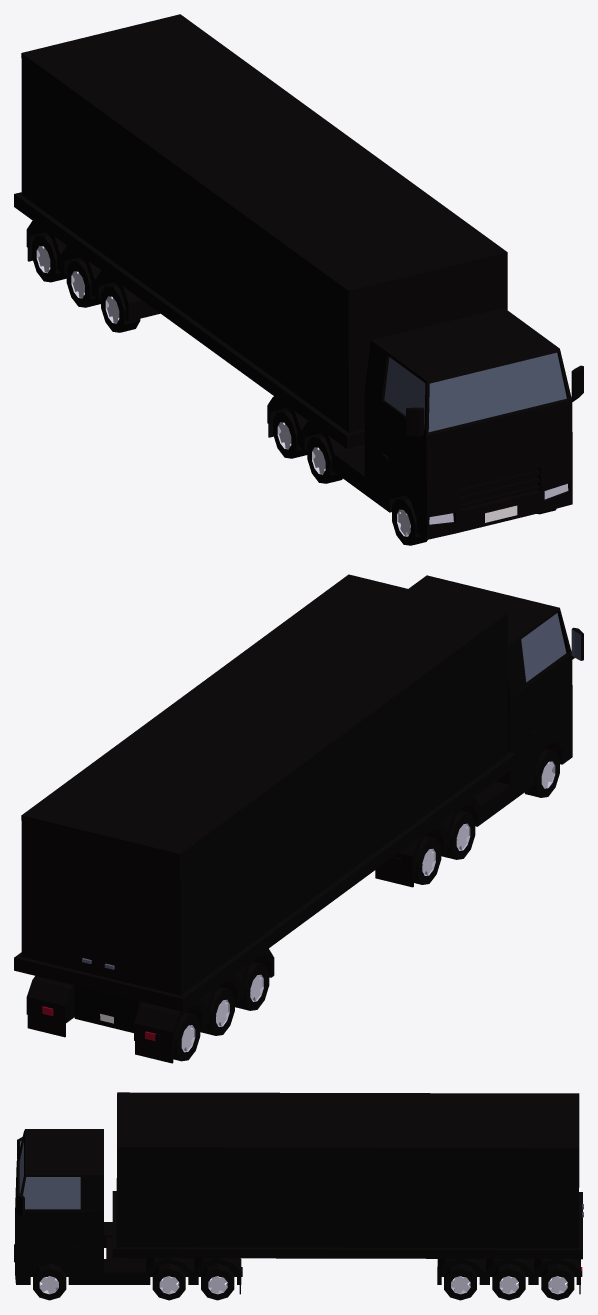
Rendered from truck.glb.
3 renders of one model, top to bottom at view 1: azimuth 30°, elevation 25°; view 2: azimuth 150°, elevation 25°; view 3: azimuth 270°, elevation 25°, orthographic. The views are drawn at different scales.
Parts seen in each view (by area): view 1: Truck with trailer, Truck with trailer wheel rear right 3, Truck with trailer wheel rear right 4, Truck with trailer wheel rear right 5, Truck with trailer wheel front right, Truck with trailer wheel rear right 2, Truck with trailer wheel rear right; view 2: Truck with trailer, Truck with trailer wheel rear right, Truck with trailer wheel rear right 3, Truck with trailer wheel rear right 4, Truck with trailer wheel front right, Truck with trailer wheel rear right 5, Truck with trailer wheel rear right 2; view 3: Truck with trailer, Truck with trailer wheel rear left 2, Truck with trailer wheel front left, Truck with trailer wheel rear left 4, Truck with trailer wheel rear left, Truck with trailer wheel rear left 5, Truck with trailer wheel rear left 3.
Part boxes in pixels (x1=…): Truck with trailer: x1=14, y1=14, x2=583, y2=539; Truck with trailer wheel rear right 3: x1=101, y1=283, x2=140, y2=332; Truck with trailer wheel rear right 4: x1=66, y1=258, x2=100, y2=307; Truck with trailer wheel rear right 5: x1=32, y1=233, x2=66, y2=282; Truck with trailer wheel front right: x1=392, y1=496, x2=427, y2=545; Truck with trailer wheel rear right 2: x1=273, y1=409, x2=307, y2=458; Truck with trailer wheel rear right: x1=307, y1=434, x2=342, y2=483; Truck with trailer: x1=14, y1=574, x2=583, y2=1063; Truck with trailer wheel rear right: x1=441, y1=810, x2=475, y2=859; Truck with trailer wheel rear right 3: x1=235, y1=961, x2=269, y2=1010; Truck with trailer wheel rear right 4: x1=200, y1=986, x2=234, y2=1035; Truck with trailer wheel front right: x1=524, y1=748, x2=559, y2=797; Truck with trailer wheel rear right 5: x1=173, y1=1012, x2=200, y2=1061; Truck with trailer wheel rear right 2: x1=414, y1=835, x2=441, y2=884; Truck with trailer: x1=14, y1=1092, x2=583, y2=1294; Truck with trailer wheel rear left 2: x1=201, y1=1263, x2=234, y2=1300; Truck with trailer wheel front left: x1=33, y1=1263, x2=66, y2=1300; Truck with trailer wheel rear left 4: x1=492, y1=1263, x2=525, y2=1300; Truck with trailer wheel rear left: x1=152, y1=1263, x2=185, y2=1300; Truck with trailer wheel rear left 5: x1=541, y1=1263, x2=574, y2=1300; Truck with trailer wheel rear left 3: x1=444, y1=1263, x2=476, y2=1300.
Size of the model in its own units: 3.41 by 4.05 by 13.42.
